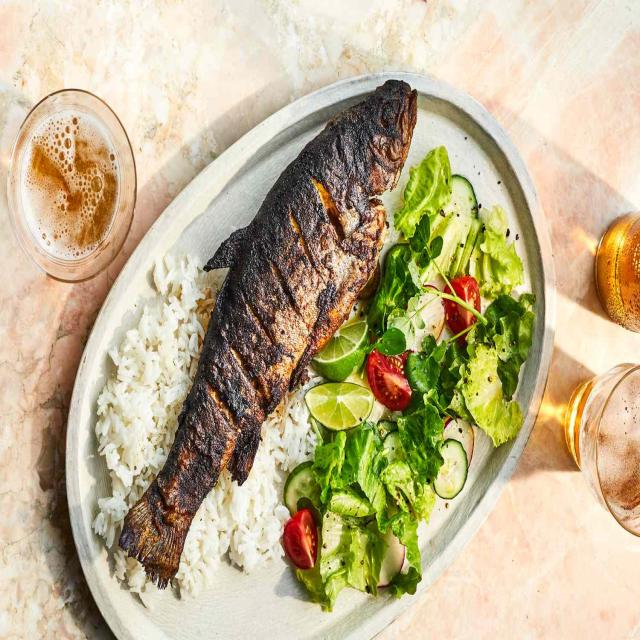Peixe: (116, 76, 419, 591)
